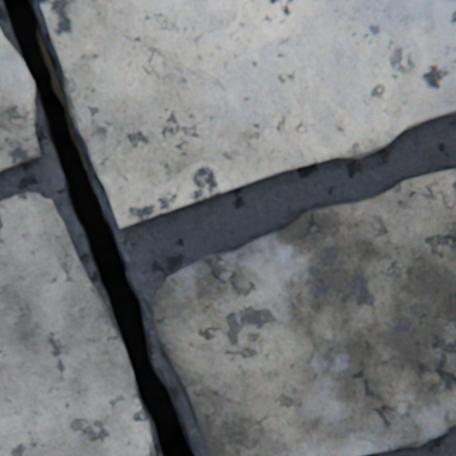brick: (40, 0, 455, 229), (152, 169, 455, 455), (0, 193, 156, 455), (0, 29, 42, 173)
crack: (1, 0, 195, 455)
